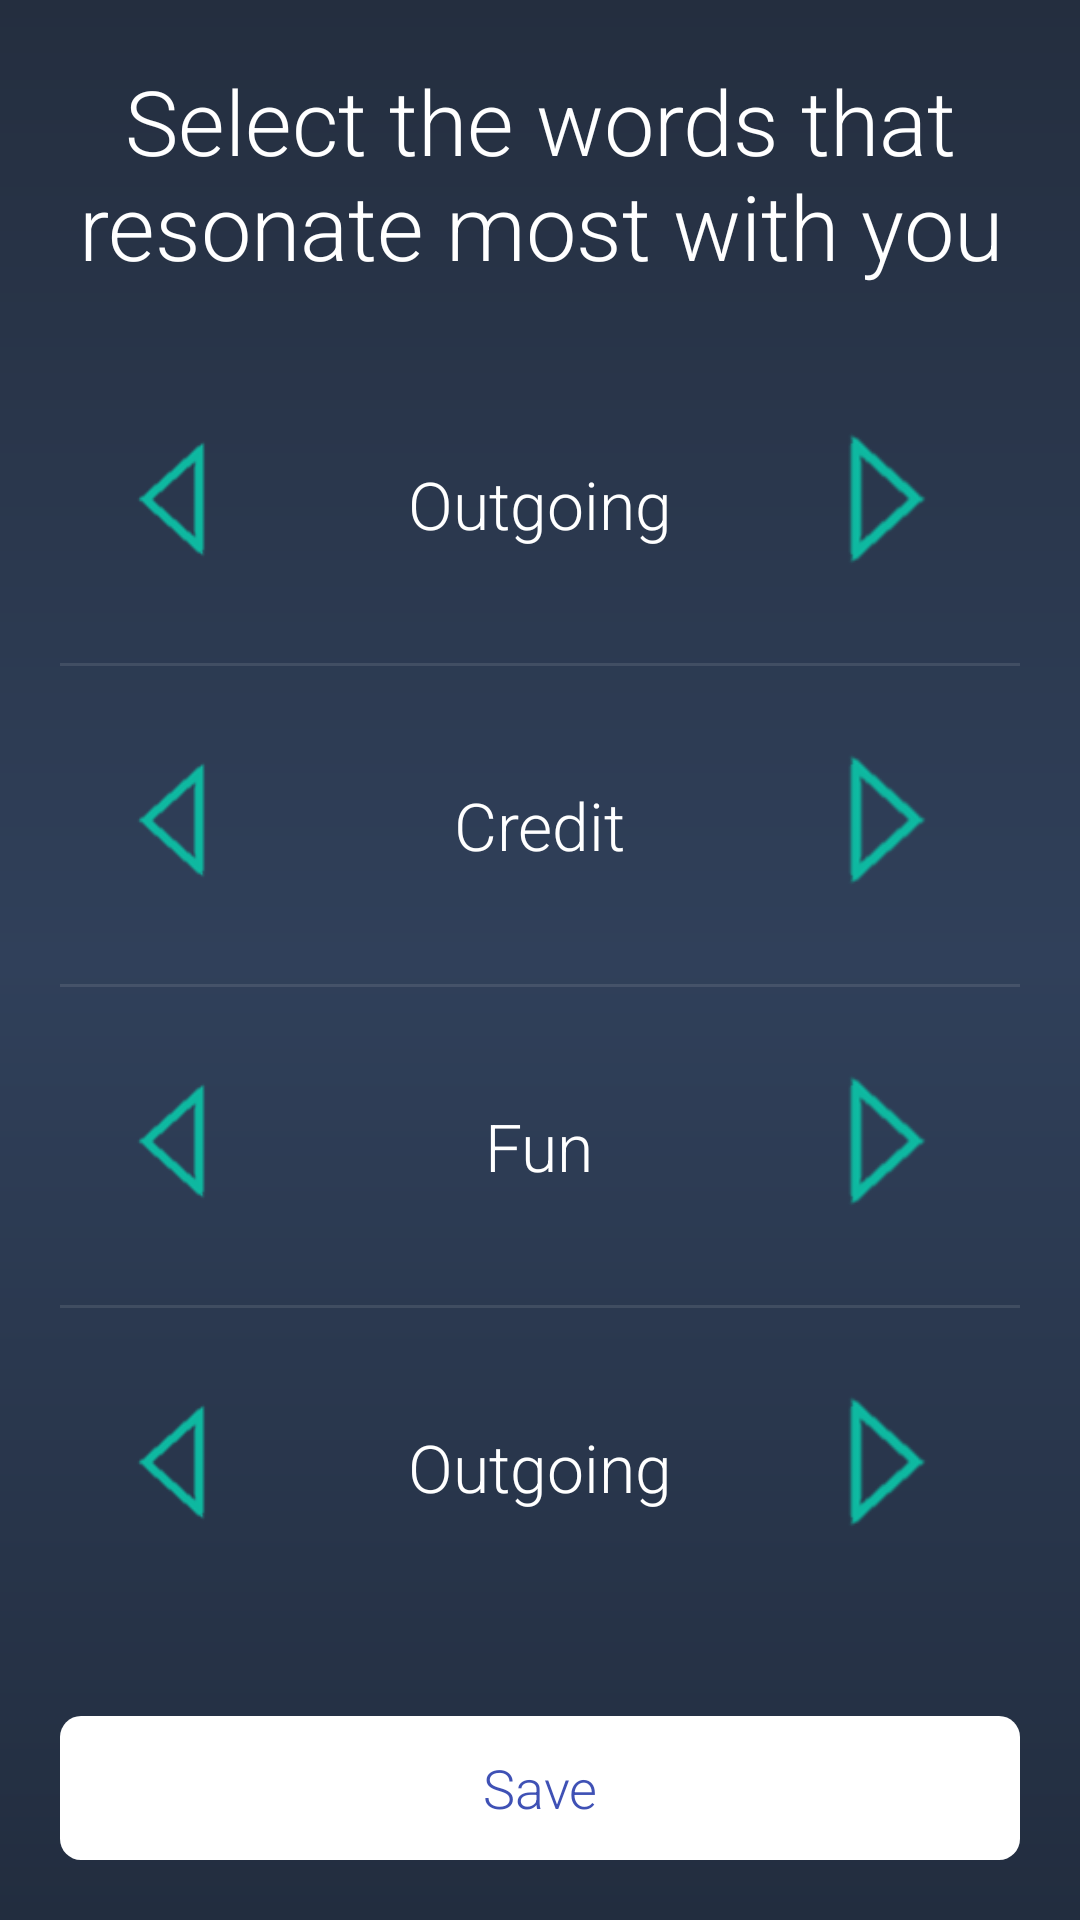

Icons on this 1080px×1920px Android screen, each with the point to tap as [x,y]:
Left Arrow: [172,499], [172,820], [172,1141], [172,1462]
Right Arrow: [887,499], [887,820], [887,1141], [887,1461]
